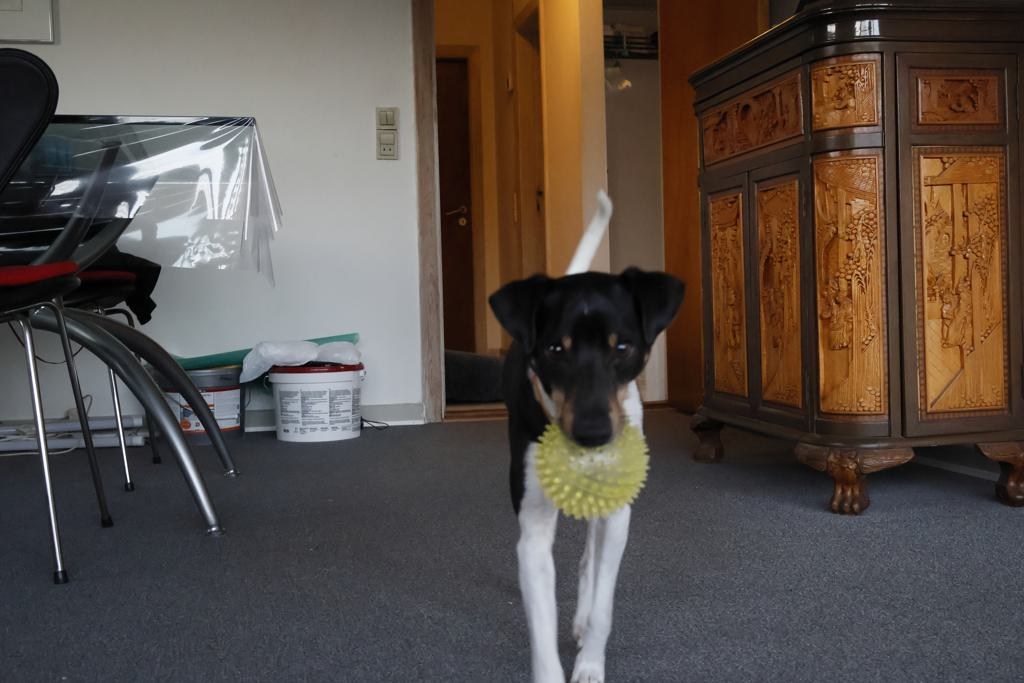Dog: (458, 166, 704, 683)
